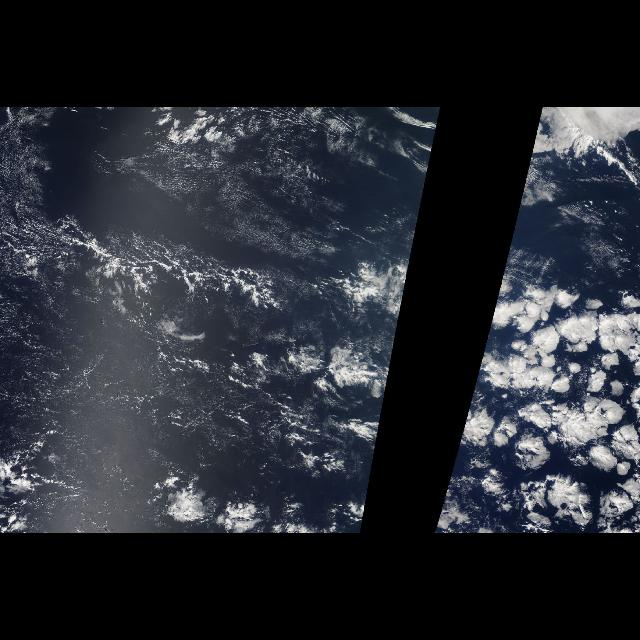Fish: (24, 219, 272, 311)
Flower: (432, 237, 638, 533), (349, 237, 416, 533)
Gravel: (6, 207, 294, 317)
Sugar: (1, 322, 370, 456), (98, 122, 350, 260)
